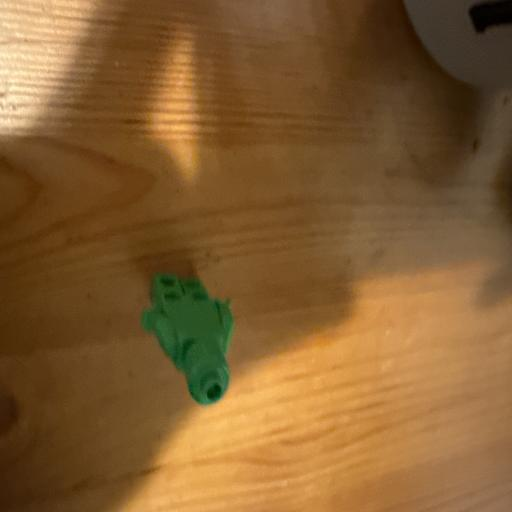Minifig: (142, 274, 234, 405)
